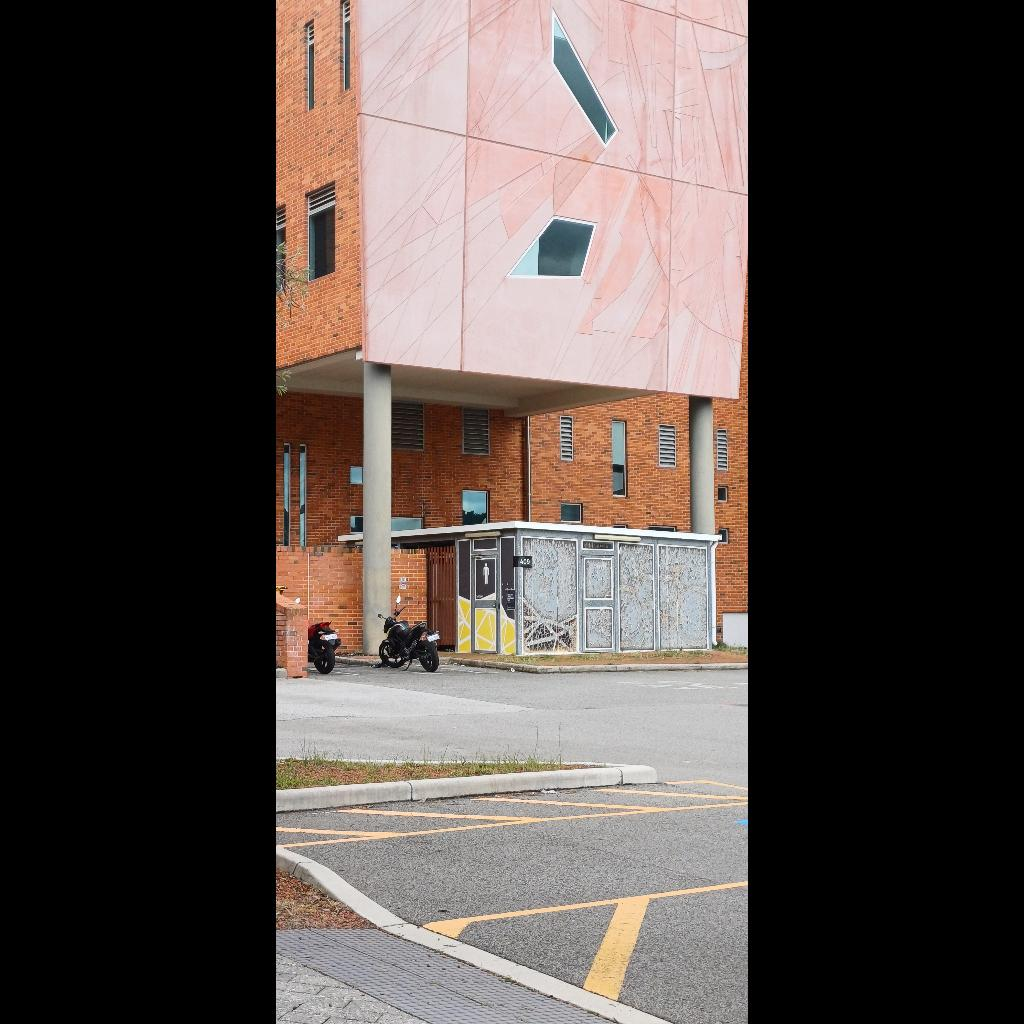BuildingCodes: (517, 556, 533, 568)
